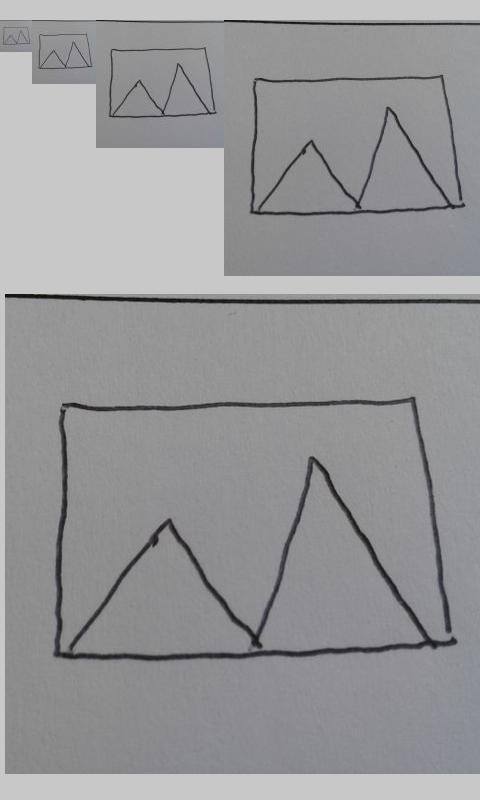image_view: (54, 394, 454, 664), (248, 75, 465, 219), (107, 47, 216, 120), (37, 32, 90, 72), (2, 26, 31, 46)
